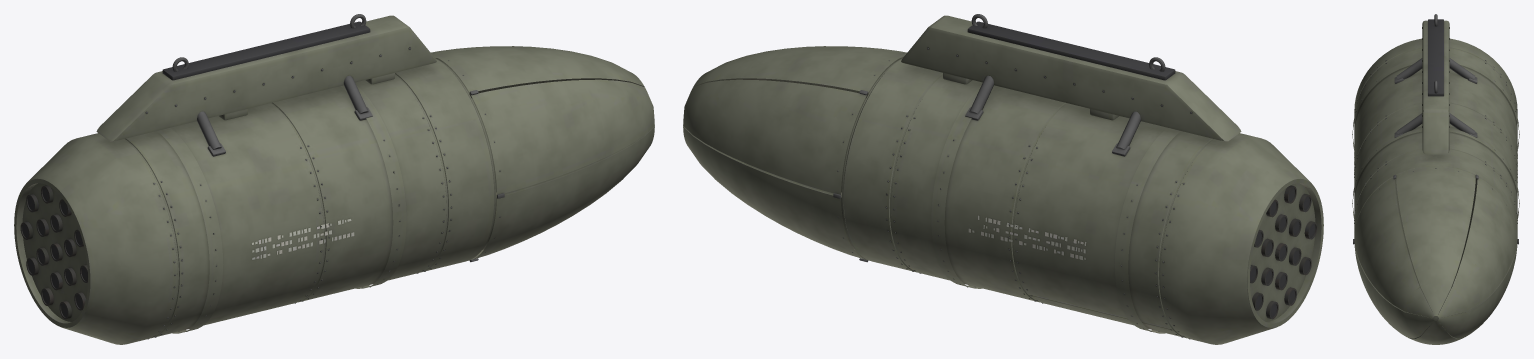
The model's file is rockets_2.glb.
3 views of the same model, side by side, from view 1: azimuth 30°, elevation 25°; view 2: azimuth 150°, elevation 25°; view 3: azimuth 270°, elevation 25° (orthographic). The views are drawn at different scales.
Parts seen in each view (by area): view 1: rockets_2; view 2: rockets_2; view 3: rockets_2.
Boxes of the visible parts, <box> form: rockets_2: <box>14,14,654,344</box>; rockets_2: <box>683,14,1323,344</box>; rockets_2: <box>1352,14,1519,344</box>.
Size of the model in its own units: 0.98 by 0.4202 by 0.3072.
Materials: 5 (5 with a texture image).
